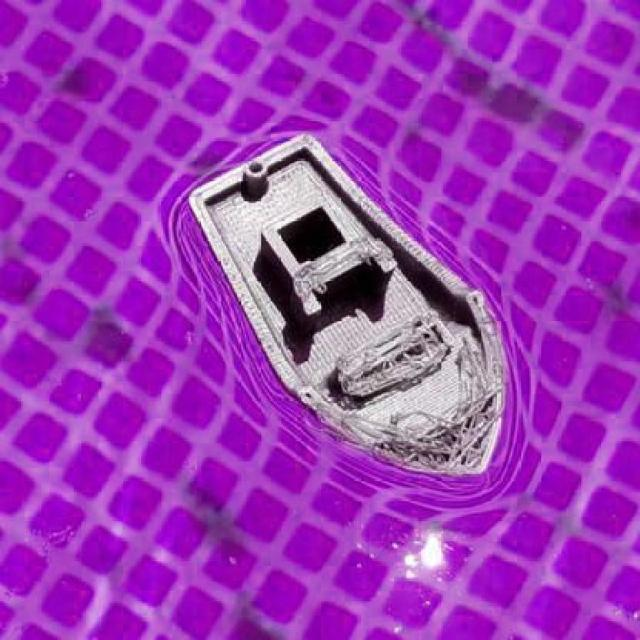Spaghetti: (336, 318, 501, 476), (292, 234, 392, 300)
